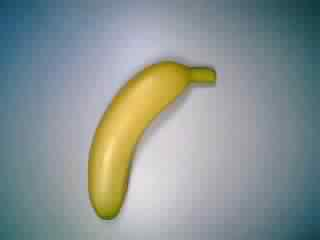banana: (82, 55, 219, 224)
